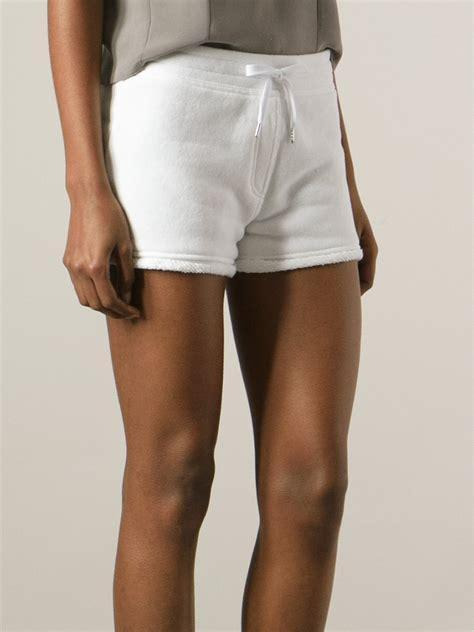short: (104, 45, 362, 277)
